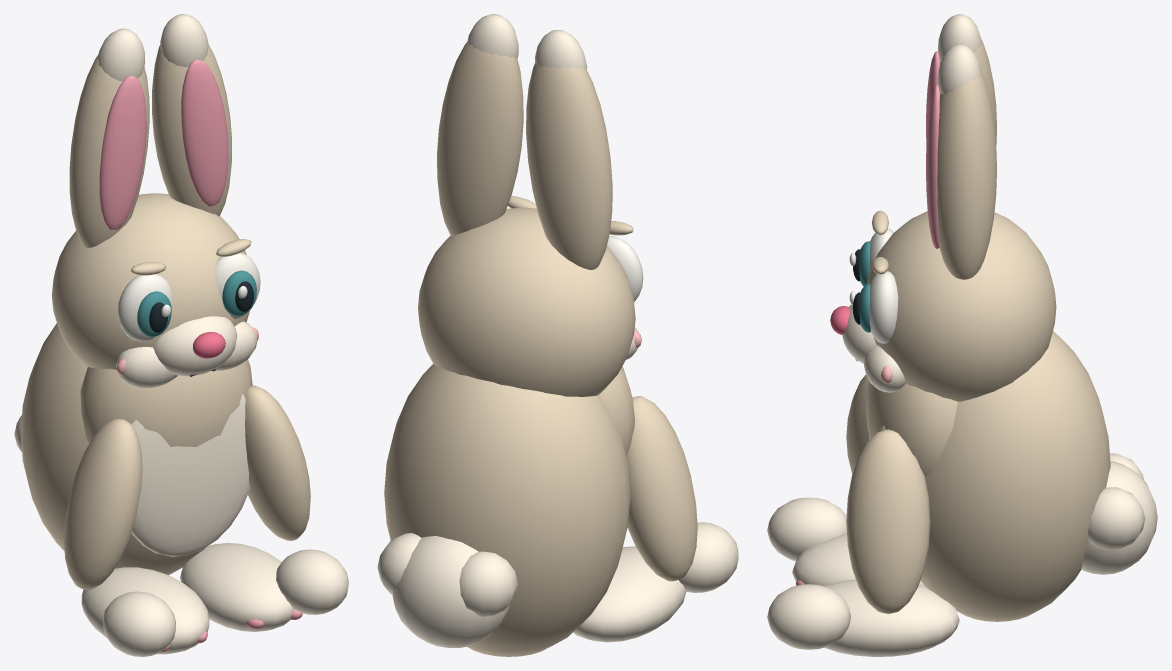
The model's file is rabbit.glb.
3 views of the same model, side by side, from view 1: azimuth 30°, elevation 25°; view 2: azimuth 150°, elevation 25°; view 3: azimuth 270°, elevation 25° (orthographic). The views are drawn at different scales.
Visible parts, largest first — view 1: RabbitHead, RabbitBelly, RabbitBody, RabbitArm, RabbitChest, RabbitArm.001, RabbitFoot.001, RabbitEarOuter, RabbitEarOuter.001, RabbitEarInner, RabbitEarInner.001, RabbitFoot (+12 smaller); view 2: RabbitBody, RabbitHead, RabbitEarOuter, RabbitEarOuter.001, RabbitArm, RabbitTail, RabbitFoot, RabbitTailFluff, RabbitPaw, RabbitEarTip.001, RabbitChest, RabbitEarTip (+2 smaller); view 3: RabbitBody, RabbitHead, RabbitArm.001, RabbitEarOuter.001, RabbitFoot.001, RabbitChest, RabbitPaw.001, RabbitPaw, RabbitTail, RabbitTailFluff.001, RabbitFoot, RabbitEyeWhite.001 (+7 smaller).
Part boxes in pixels (x1=…): RabbitHead: x1=52, y1=193, x2=249, y2=369; RabbitBelly: x1=131, y1=394, x2=250, y2=556; RabbitBody: x1=20, y1=323, x2=205, y2=575; RabbitArm: x1=64, y1=419, x2=142, y2=589; RabbitChest: x1=80, y1=359, x2=252, y2=446; RabbitArm.001: x1=245, y1=385, x2=310, y2=540; RabbitFoot.001: x1=180, y1=543, x2=294, y2=631; RabbitEarOuter: x1=69, y1=55, x2=149, y2=247; RabbitEarOuter.001: x1=152, y1=44, x2=231, y2=216; RabbitEarInner: x1=99, y1=75, x2=146, y2=230; RabbitEarInner.001: x1=181, y1=59, x2=228, y2=206; RabbitFoot: x1=81, y1=567, x2=209, y2=654; RabbitBody: x1=384, y1=364, x2=630, y2=656; RabbitHead: x1=418, y1=207, x2=635, y2=396; RabbitEarOuter: x1=526, y1=63, x2=612, y2=269; RabbitEarOuter.001: x1=437, y1=41, x2=523, y2=235; RabbitArm: x1=626, y1=396, x2=697, y2=581; RabbitTail: x1=392, y1=536, x2=509, y2=647; RabbitFoot: x1=573, y1=546, x2=686, y2=642; RabbitTailFluff: x1=459, y1=551, x2=517, y2=616; RabbitPaw: x1=679, y1=522, x2=738, y2=592; RabbitEarTip.001: x1=467, y1=14, x2=518, y2=58; RabbitChest: x1=599, y1=366, x2=634, y2=455; RabbitEarTip: x1=535, y1=30, x2=587, y2=69; RabbitBody: x1=920, y1=331, x2=1110, y2=621; RabbitHead: x1=866, y1=211, x2=1056, y2=401; RabbitArm.001: x1=846, y1=429, x2=930, y2=614; RabbitEarOuter.001: x1=937, y1=73, x2=996, y2=279; RabbitFoot.001: x1=825, y1=579, x2=959, y2=656; RabbitChest: x1=866, y1=381, x2=957, y2=477; RabbitPaw.001: x1=767, y1=584, x2=850, y2=649; RabbitPaw: x1=767, y1=497, x2=846, y2=561; RabbitTail: x1=1081, y1=461, x2=1157, y2=574; RabbitTailFluff.001: x1=1088, y1=487, x2=1145, y2=549; RabbitFoot: x1=792, y1=533, x2=926, y2=587; RabbitEyeWhite.001: x1=869, y1=271, x2=898, y2=343.
Size of the model in its own units: 1.13 by 2.65 by 1.58.
